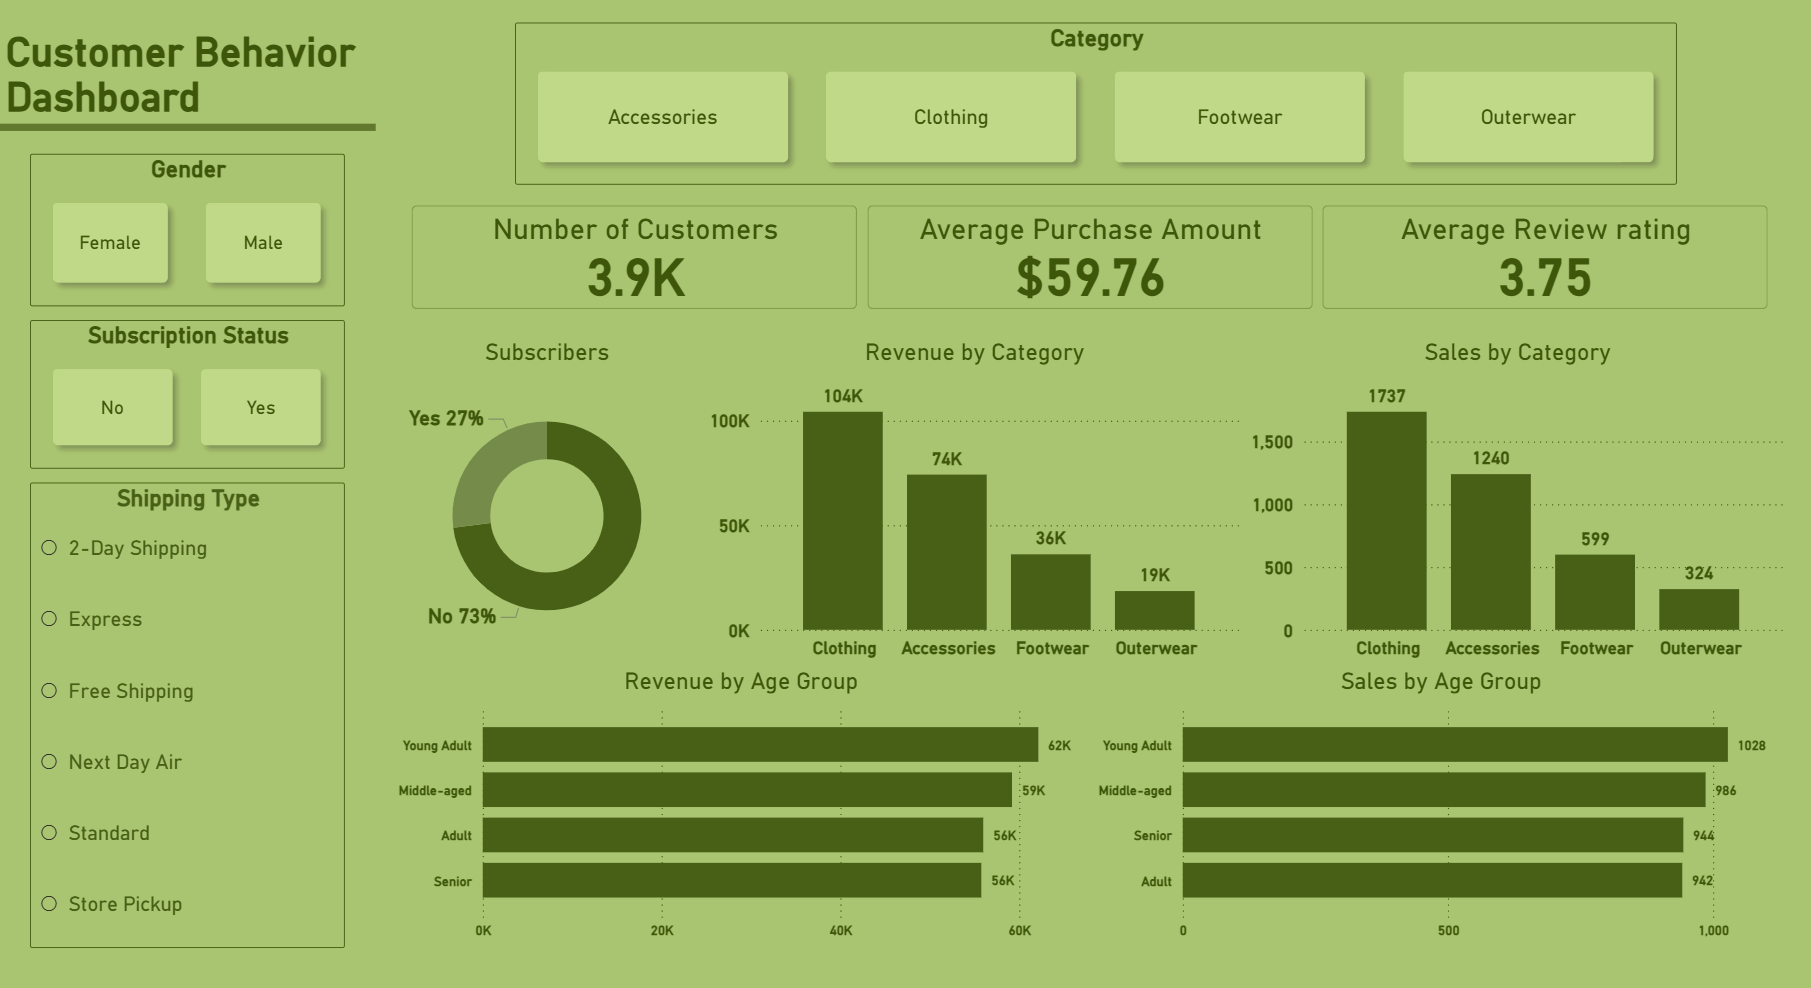

The dashboard page shown, as its layout file describes it:
{"tool":"powerbi","page":{"name":"Page 1","canvas":[1500,820],"ordinal":0},"visuals":[{"type":"cardVisual","fields":{"Data":["public customer.Number of Customers","public customer.Average Purchase Amount","public customer.Average Review rating"]},"box":[324.2,153,1159.2,120.7],"z":0},{"type":"textbox","box":[0,18.2,376.1,87],"z":1000},{"type":"donutChart","title":"Subscribers","fields":{"Category":["public customer.subscription_status"],"Y":["CountNonNull(public customer.customer_id)"]},"box":[324.2,280.7,258.2,272.3],"z":2000},{"type":"clusteredColumnChart","title":"Revenue by Category","fields":{"Y":["Sum(public customer.purchase_amount)"],"Category":["public customer.category"]},"box":[582.4,280.7,449.1,272.3],"z":3000},{"type":"clusteredColumnChart","title":"Sales by Category","fields":{"Y":["CountNonNull(public customer.customer_id)"],"Category":["public customer.category"]},"box":[1031.5,280.7,451.9,272.3],"z":4000},{"type":"advancedSlicerVisual","title":"Subscription Status","fields":{"Values":["public customer.subscription_status"]},"box":[25.3,265.3,261,123.5],"z":5000},{"type":"advancedSlicerVisual","title":"Gender","fields":{"Values":["public customer.gender"]},"box":[25.3,127.7,261,126.3],"z":6000},{"type":"advancedSlicerVisual","title":"Category","fields":{"Values":["public customer.category"]},"box":[426.6,18.2,962.8,134.7],"z":7000},{"type":"shape","box":[0,94,311.6,22.5],"z":8000},{"type":"listSlicer","title":"Shipping Type","fields":{"Values":["public customer.shipping_type"]},"box":[25.3,400,261,385.9],"z":9000},{"type":"clusteredBarChart","title":"Revenue by Age Group","fields":{"Y":["Sum(public customer.purchase_amount)"],"Category":["public customer.age_group"]},"box":[324.2,553,579.6,233],"z":9001},{"type":"clusteredBarChart","title":"Sales by Age Group","fields":{"Category":["public customer.age_group"],"Y":["CountNonNull(public customer.customer_id)"]},"box":[903.8,553,579.6,233],"z":9002}]}

Visuals, with their boxes in screenshot pixels (x1, y1, x2, y2), scaled from the page's 1500x820 canvas onto the 1811x988 screenshot:
cardVisual - public customer.Number of Customers x public customer.Average Purchase Amount: 391/184/1791/330
textbox: 0/22/454/127
"Subscribers" donutChart: 391/338/703/666
"Revenue by Category" clusteredColumnChart: 703/338/1245/666
"Sales by Category" clusteredColumnChart: 1245/338/1791/666
"Subscription Status" advancedSlicerVisual: 31/320/346/468
"Gender" advancedSlicerVisual: 31/154/346/306
"Category" advancedSlicerVisual: 515/22/1677/184
shape: 0/113/376/140
"Shipping Type" listSlicer: 31/482/346/947
"Revenue by Age Group" clusteredBarChart: 391/666/1091/947
"Sales by Age Group" clusteredBarChart: 1091/666/1791/947
